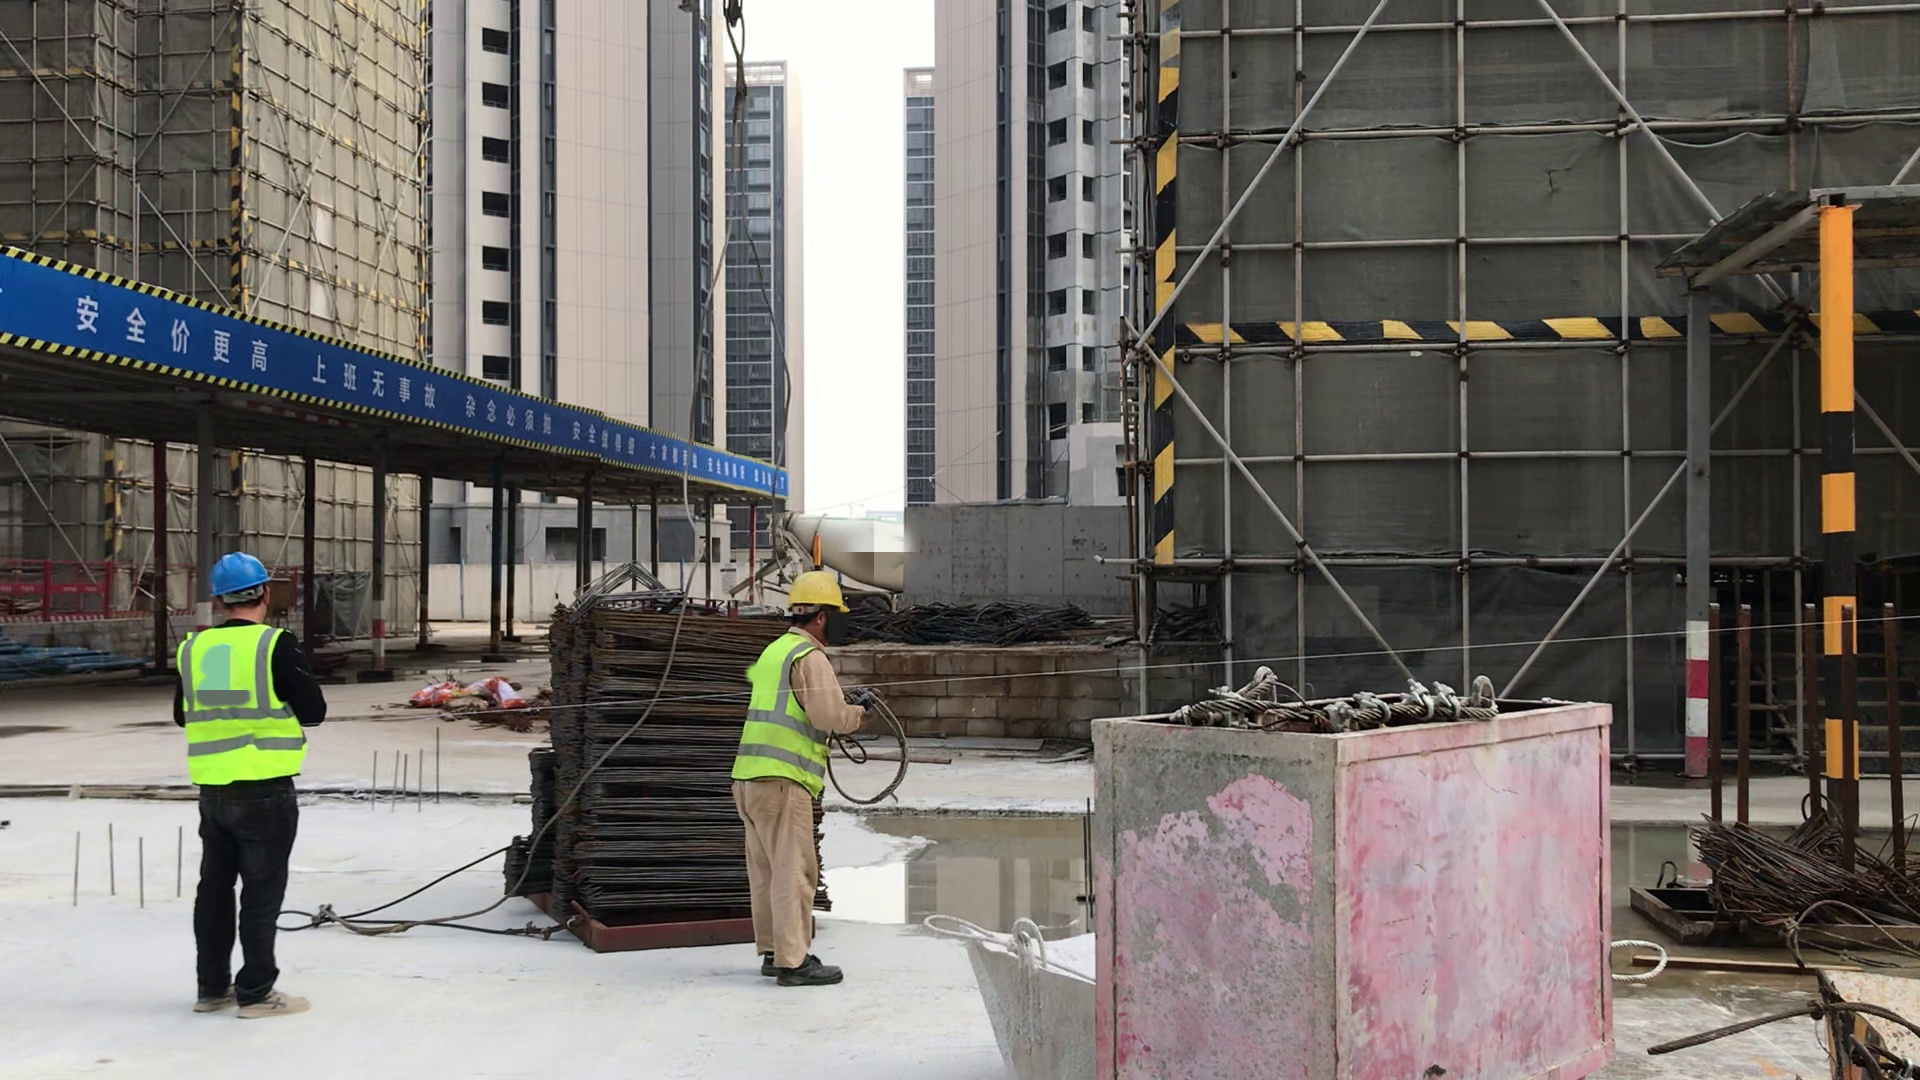fence: (1, 557, 214, 627)
helmet: (785, 572, 857, 622), (205, 550, 268, 607)
hopper: (927, 889, 1119, 1078), (1794, 935, 1920, 1078)
person: (172, 551, 325, 1021), (742, 565, 868, 993)
vest: (171, 622, 307, 791), (735, 639, 842, 799)
